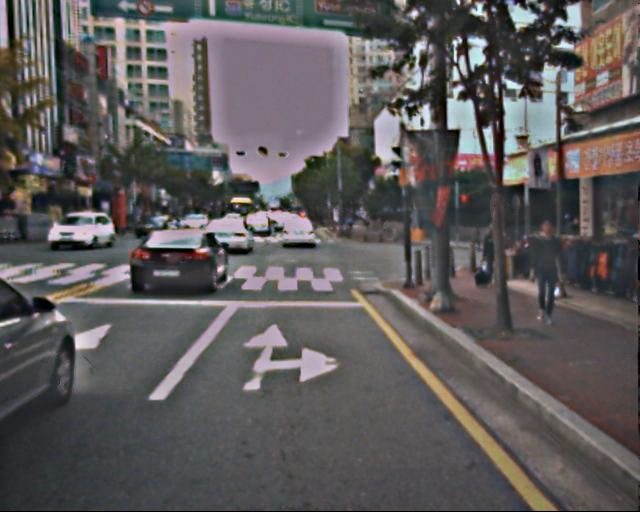person: (523, 217, 568, 324), (479, 224, 508, 293)
